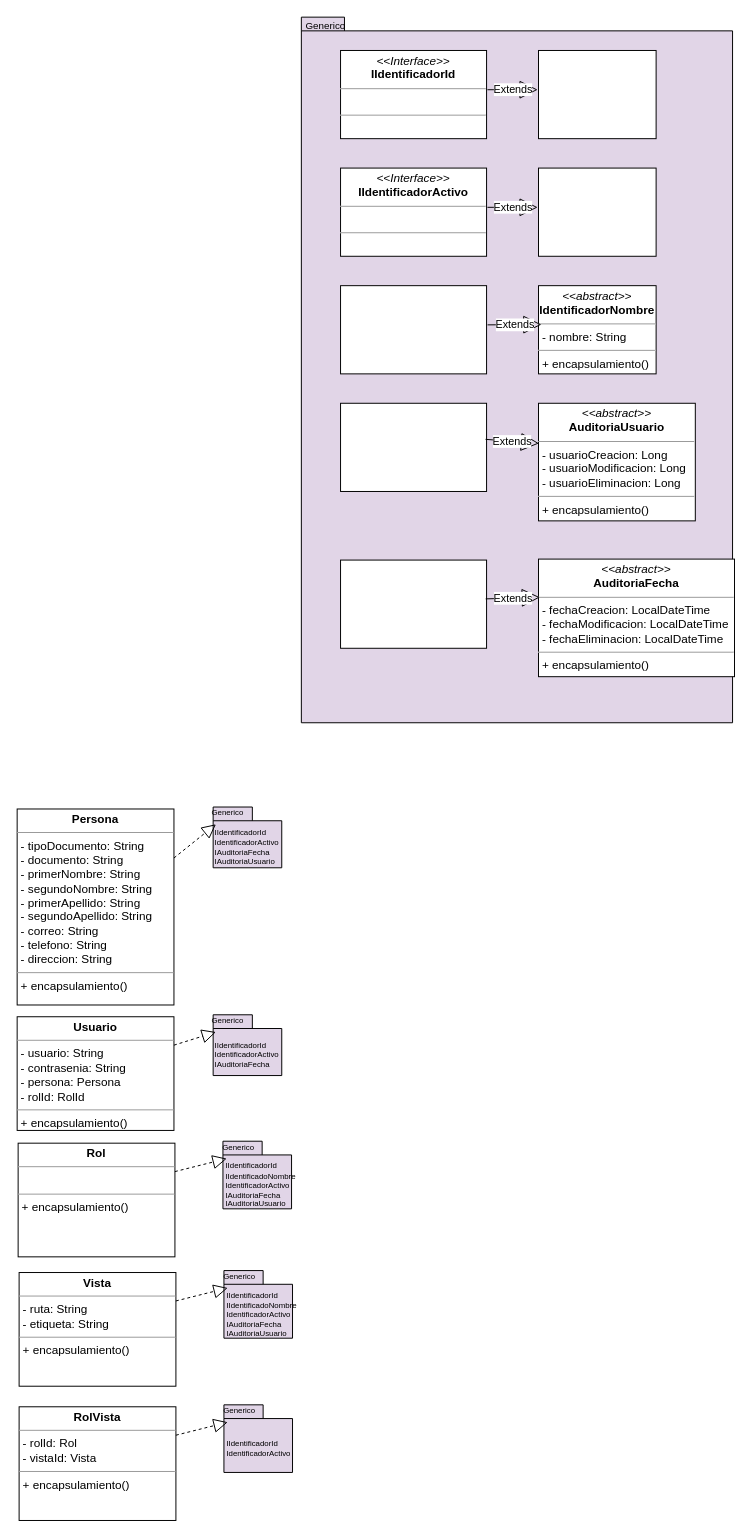
This 752x1538 diagram has some shape labels left out. Here are the shapes that lost their labels. From the top down, the centre of each, then its label:
At (x=597, y=94): "<<abstract>> IdentificadorId - id: Long + encapsulamiento()".
At (x=597, y=211): "<<abstract>> IdentificadorActivo - activo: Boolean + encapsulamiento()".
At (x=413, y=329): "<<Interface>> IIdentificadorNombre".
At (x=413, y=446): "<<Interface>> IAuditoriaUsurio".
At (x=413, y=603): "<<Interface>> IAuditoriaFecha".
